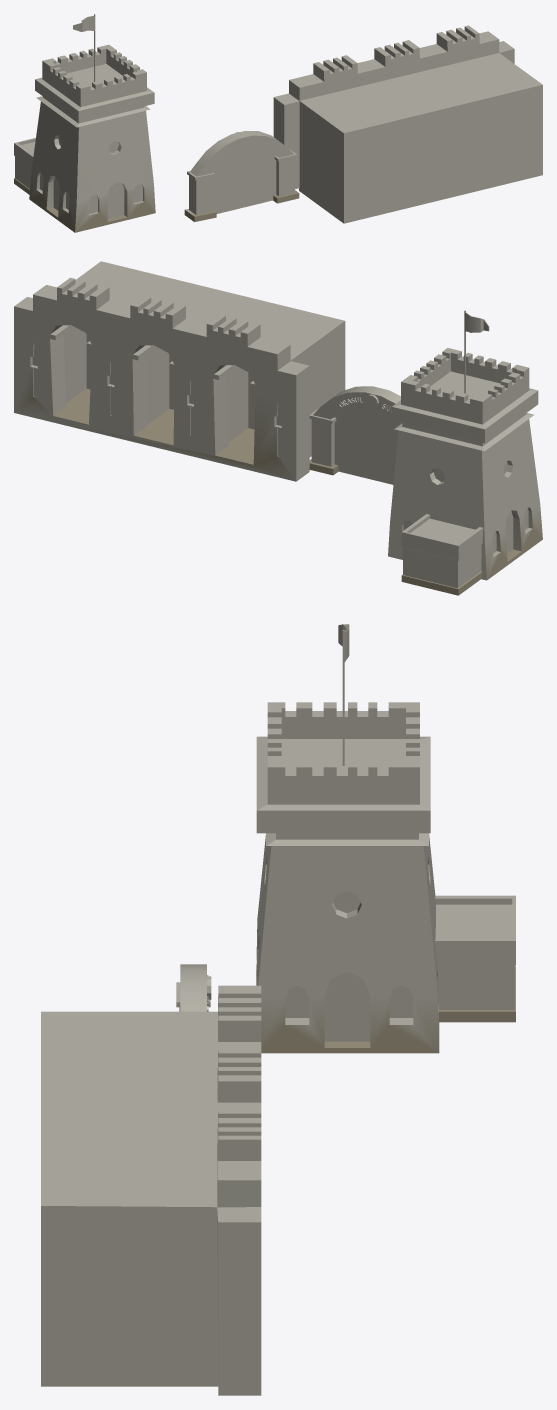
3 renders of one model, top to bottom at view 1: azimuth 30°, elevation 25°; view 2: azimuth 150°, elevation 25°; view 3: azimuth 270°, elevation 25°, orthographic. The views are drawn at different scales.
Visible parts, largest first — view 1: pCube56:PIV; view 2: pCube56:PIV; view 3: pCube56:PIV.
Boxes of the visible parts, x1=… form: pCube56:PIV: x1=14, y1=14, x2=542, y2=232; pCube56:PIV: x1=14, y1=261, x2=542, y2=595; pCube56:PIV: x1=41, y1=624, x2=515, y2=1395.
Bounding box in the file's own units: 37.29 × 16.27 × 17.84.
